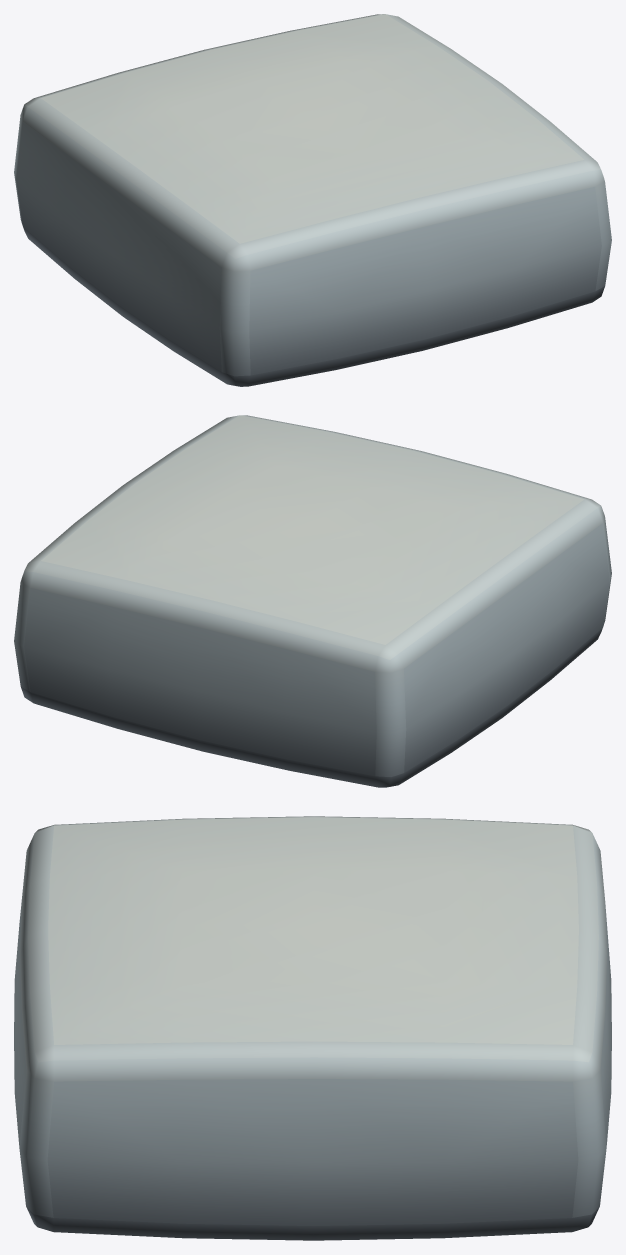
The model's file is Quartz_Plain_Dark_Slab.fbx.
The picture shows the model from 3 angles, top to bottom: view 1: azimuth 30°, elevation 25°; view 2: azimuth 150°, elevation 25°; view 3: azimuth 270°, elevation 25°; orthographic projection. The views are drawn at different scales.
Visible parts, largest first — view 1: Quartz_Plain_Dark_Slab_LOD0; view 2: Quartz_Plain_Dark_Slab_LOD0; view 3: Quartz_Plain_Dark_Slab_LOD0.
Part boxes in pixels (<box>): Quartz_Plain_Dark_Slab_LOD0: <box>14,14,611,386</box>; Quartz_Plain_Dark_Slab_LOD0: <box>14,415,611,787</box>; Quartz_Plain_Dark_Slab_LOD0: <box>14,816,611,1240</box>.
Size of what is drawn, in the model's own units: 1.09 by 0.4168 by 1.09.
